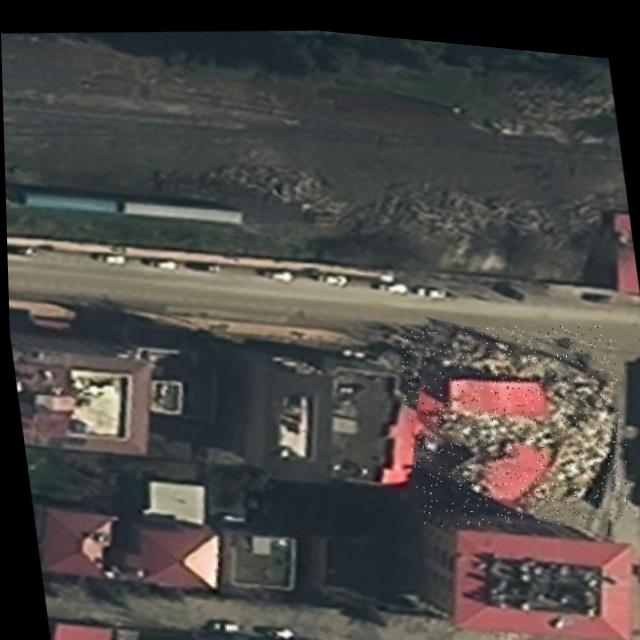Rubble: (392, 295, 634, 533)
